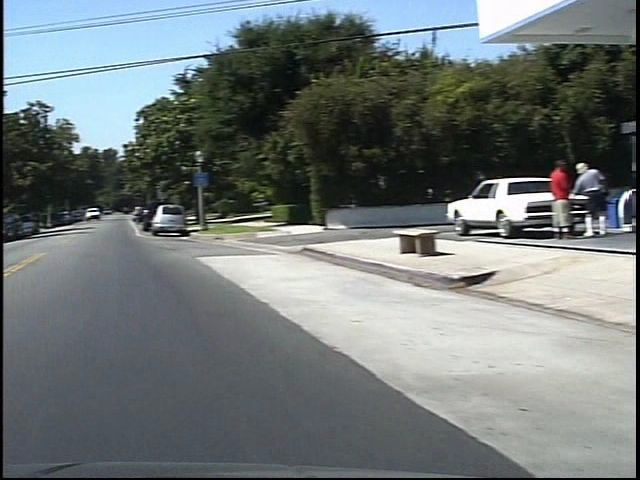person: (554, 159, 596, 243), (532, 156, 561, 244)
